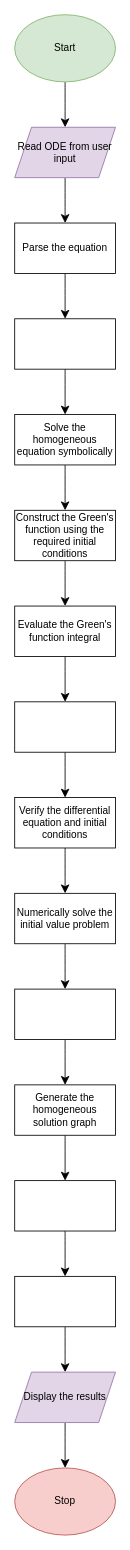
Image size: 130x1550. Some labels were removed from this diagram. Each missing label, with the centre of its shape:
Compare the numerical and symbolic solutions: (x=65, y=1014)
Construct the corresponding homogeneous equation: (x=65, y=343)
Generate the Green's function animation: (x=65, y=1301)
Generate the Green's function solution graph: (x=65, y=1205)
Simplify the resulting solution: (x=65, y=726)
